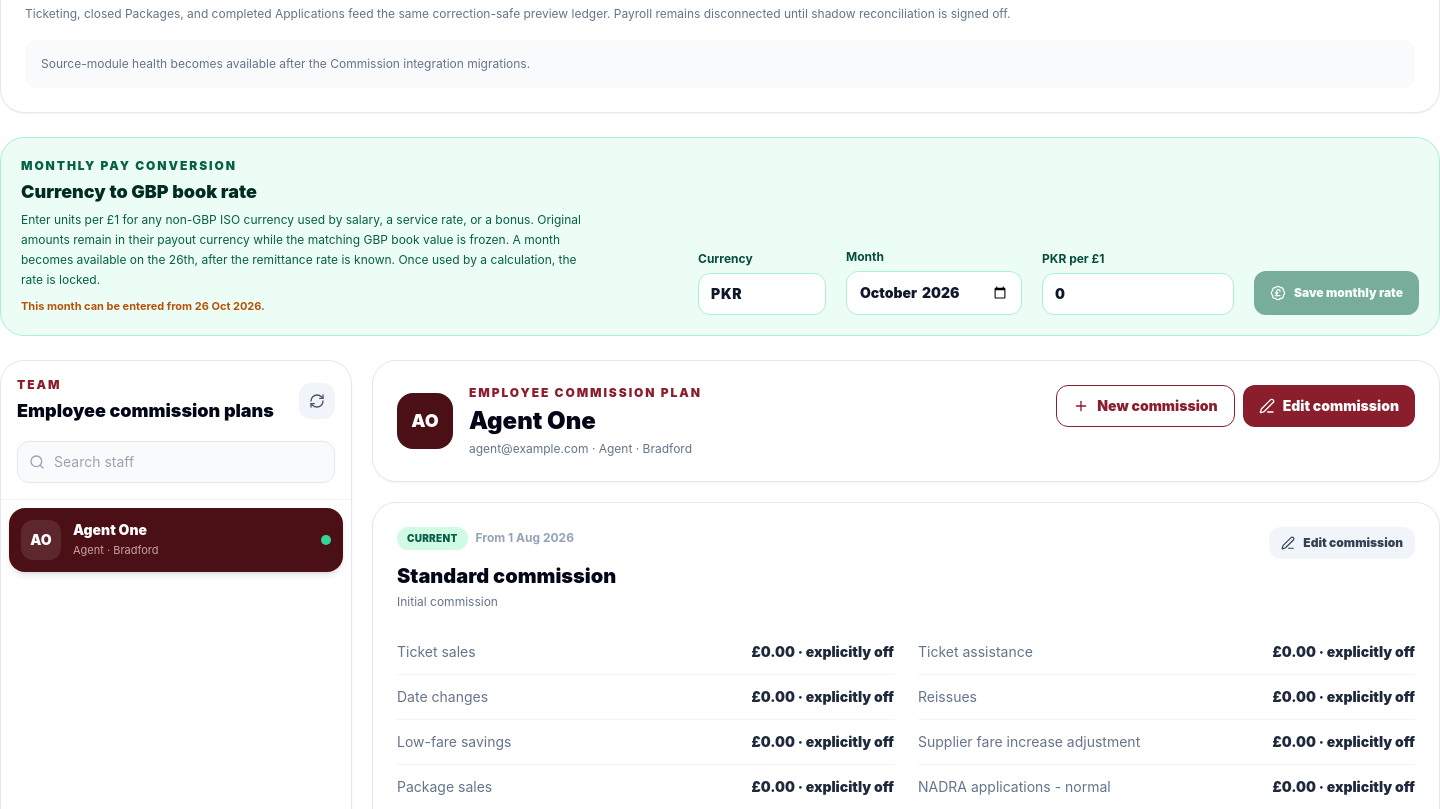
Test: Admin Commission editor modes › keeps Edit commission and New commission as separate workflows
(page scrolled)
Expected: the button "New commission" is shown, 1056,384 -> 1235,426
Click the 1st button "Edit commission". click: (1329,406)
box: 1243,384 -> 1415,426
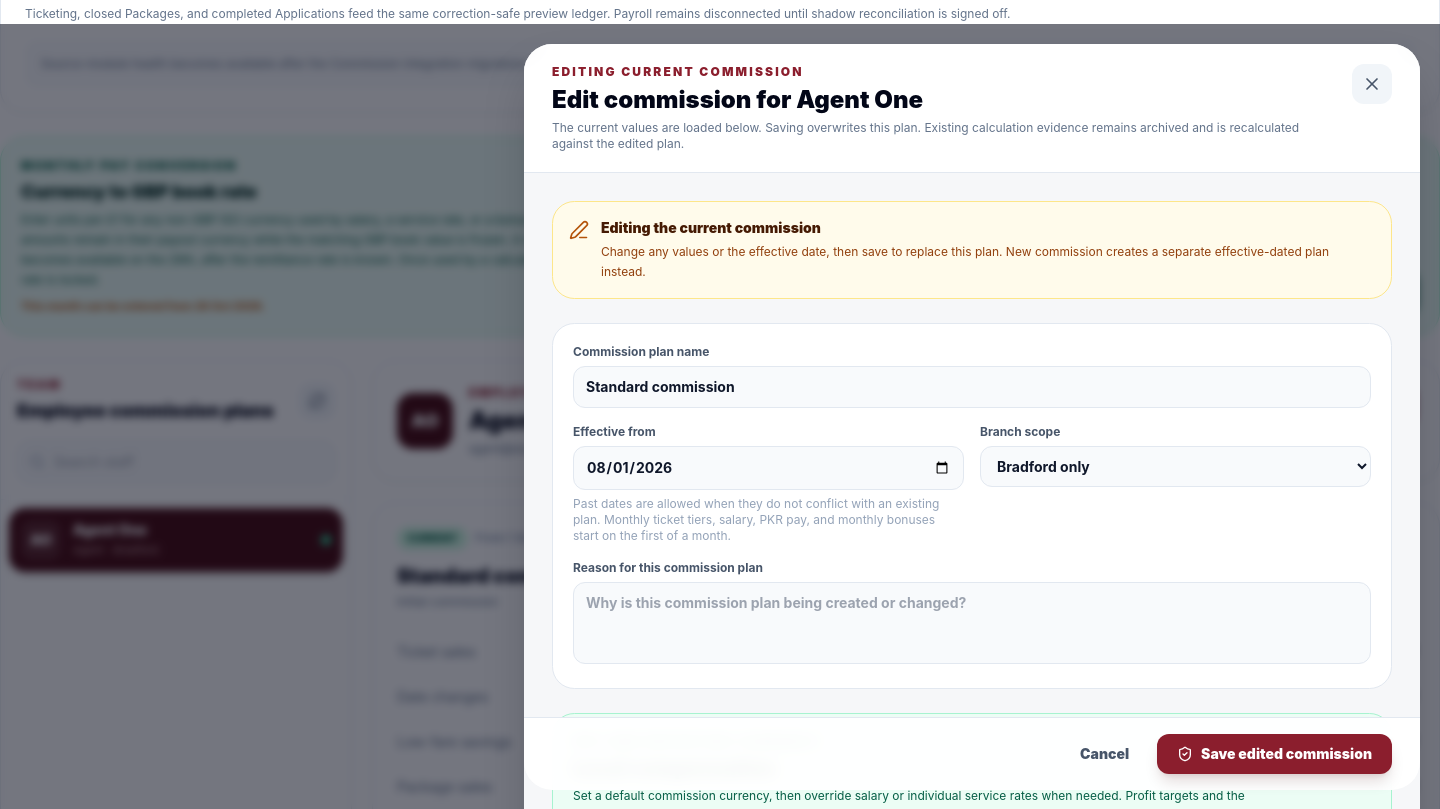
Expected: the heading "Edit commission for Agent One" is shown, 552,85 -> 923,114
Expected: the field labelled "Commission plan name" holds "Standard commission", 573,366 -> 1371,408
Expected: the dropdown labelled "Branch scope" shows "Bradford only", 980,446 -> 1371,487
Type "2026-09-01" into the date field labelled "Effective from". click: (768,468)
box: 573,446 -> 964,490
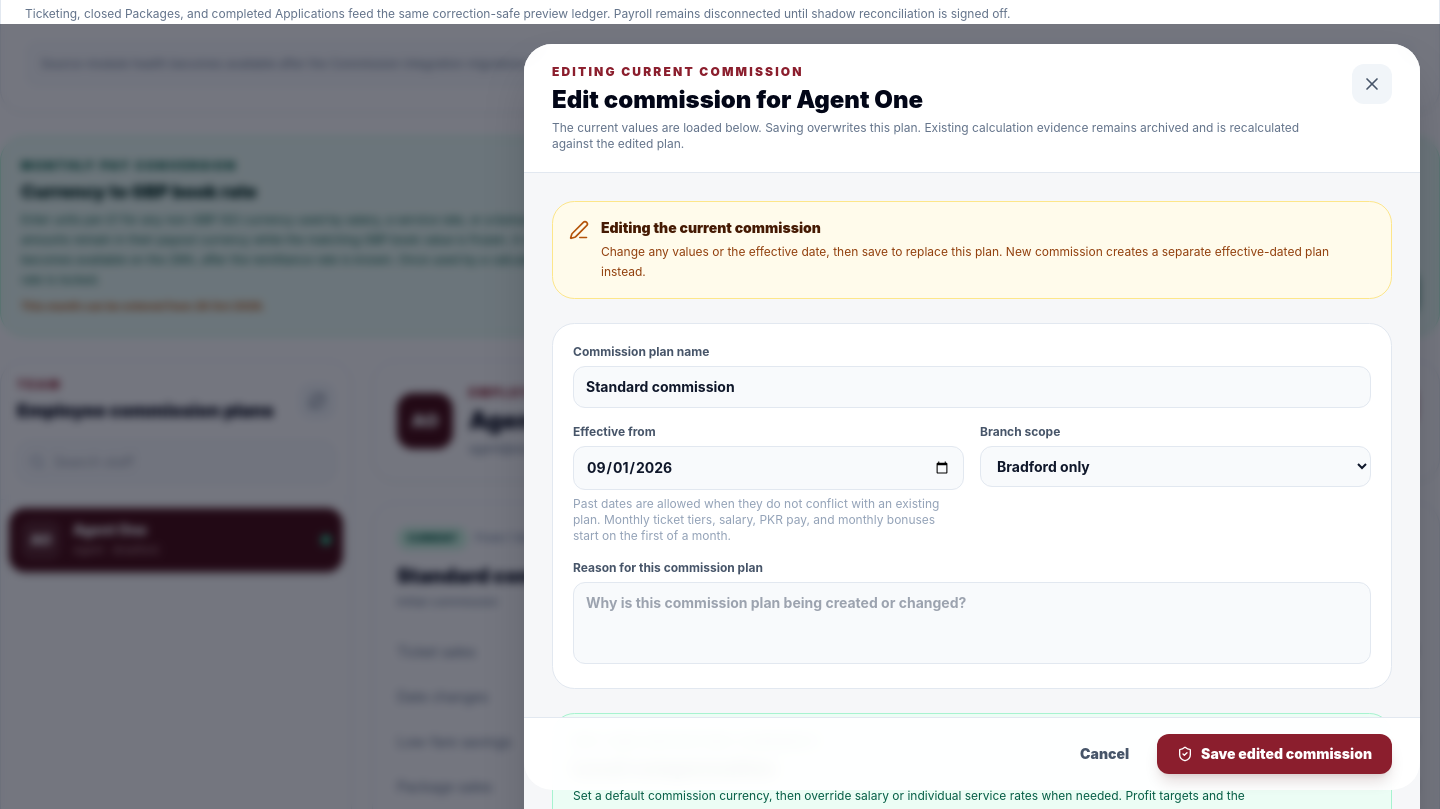
Click the button named "Close commission plan editor". click: (1372,84)
box: 1352,64 -> 1392,104
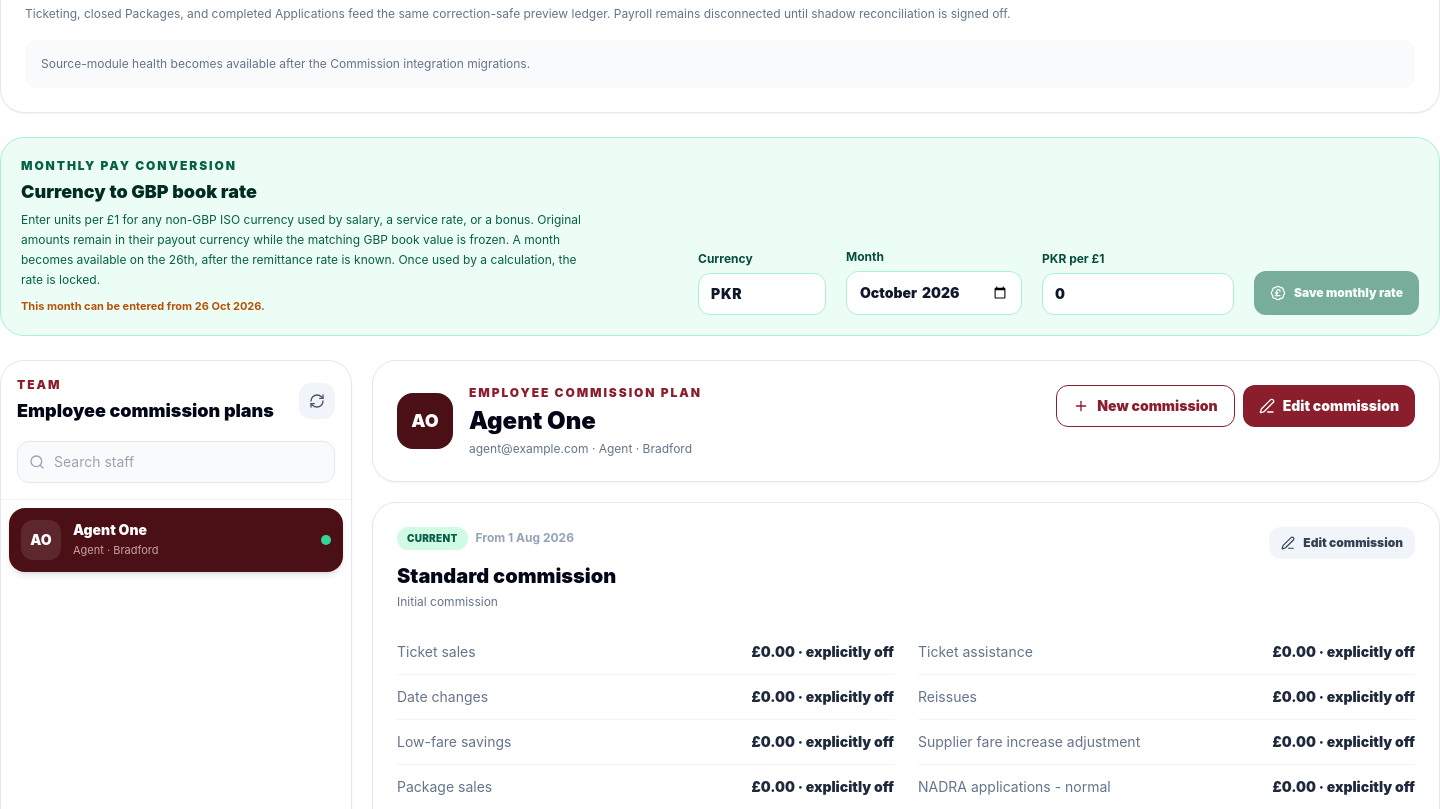
Click the button "New commission". click: (1146,406)
box: 1056,384 -> 1235,426
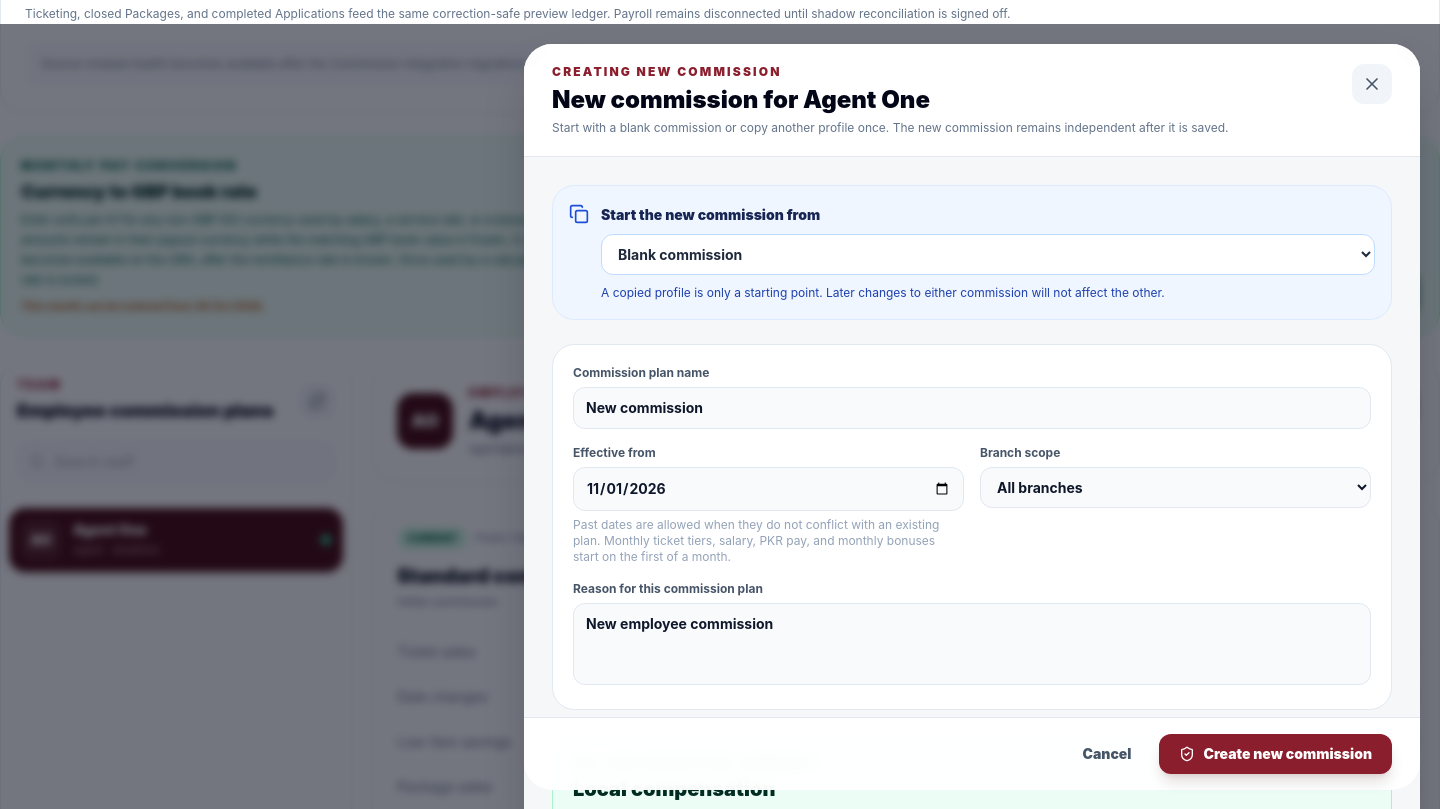
Expected: the heading "New commission for Agent One" is shown, 552,85 -> 930,114
Expected: the dropdown labelled "Start the new commission from" is shown, 601,234 -> 1375,275
Expected: the field labelled "Commission plan name" holds "New commission", 573,387 -> 1371,429
